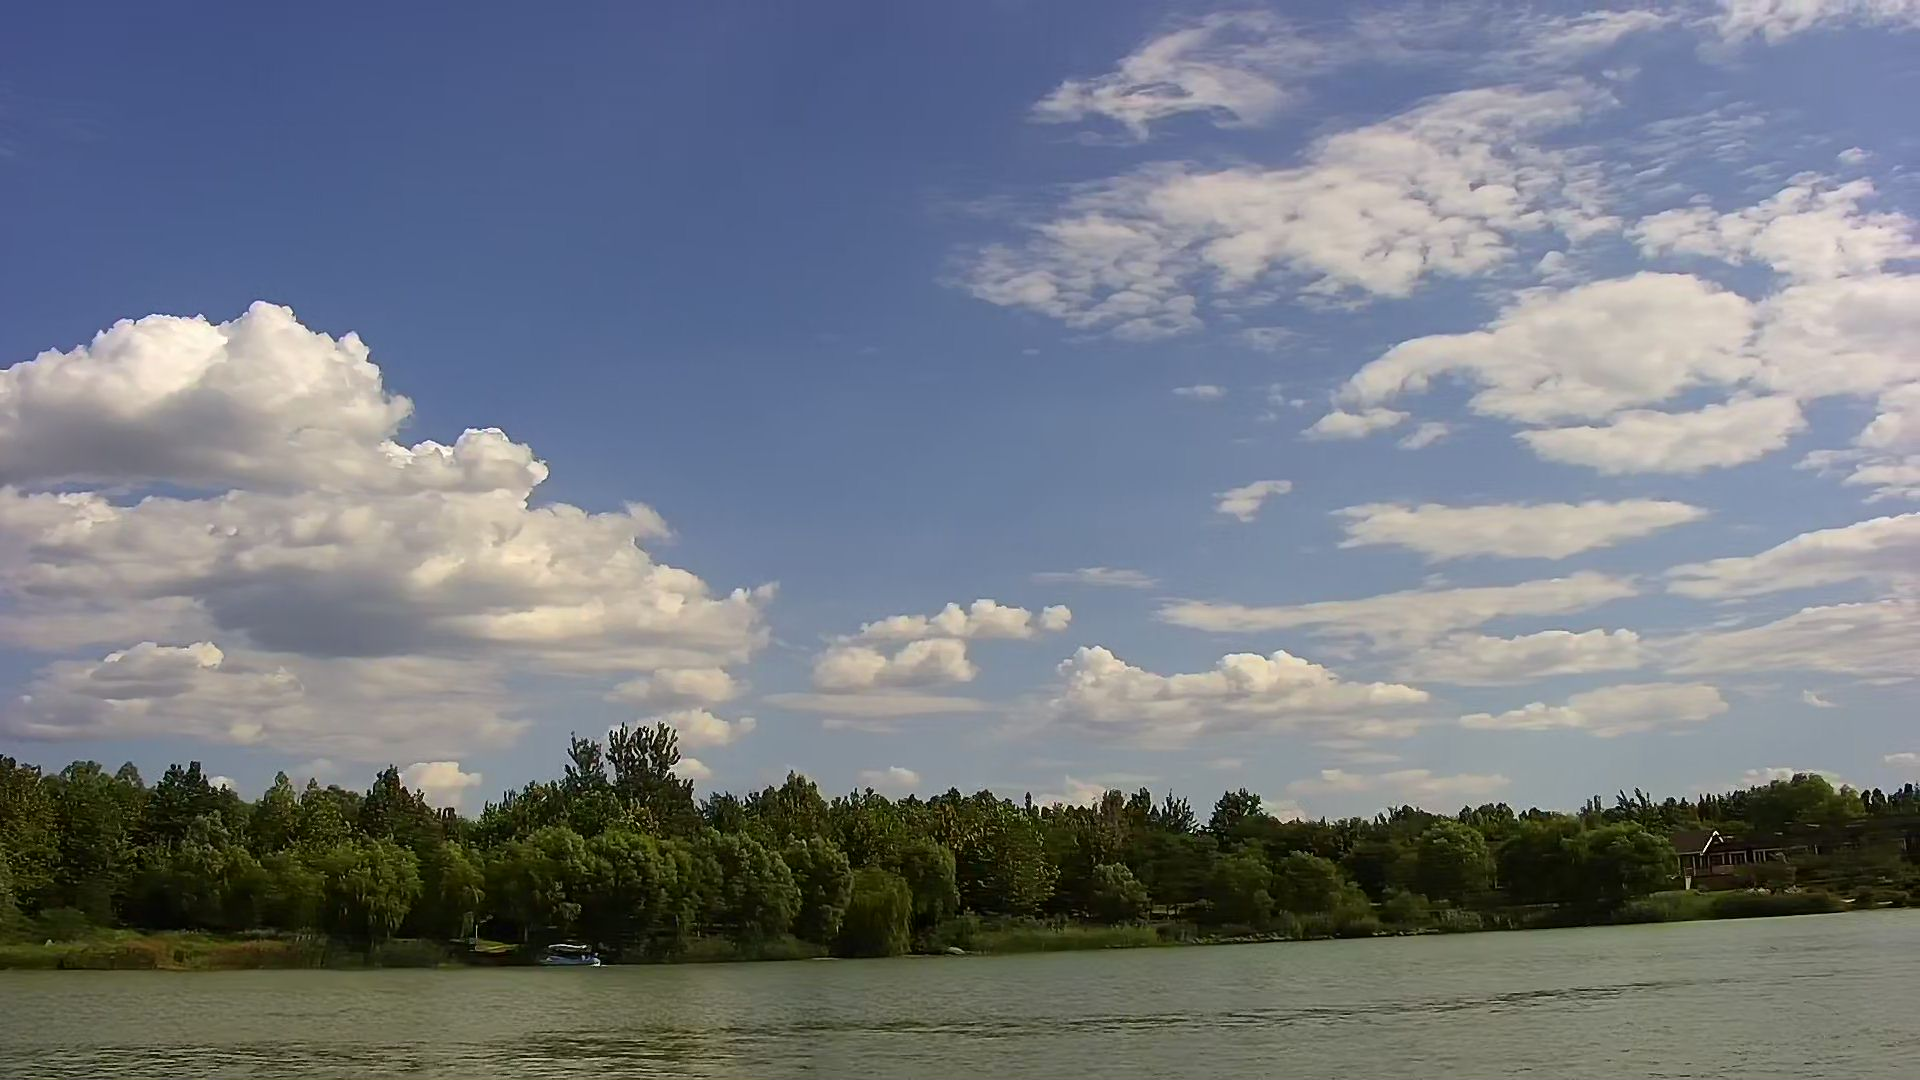boat: (534, 942, 605, 969)
